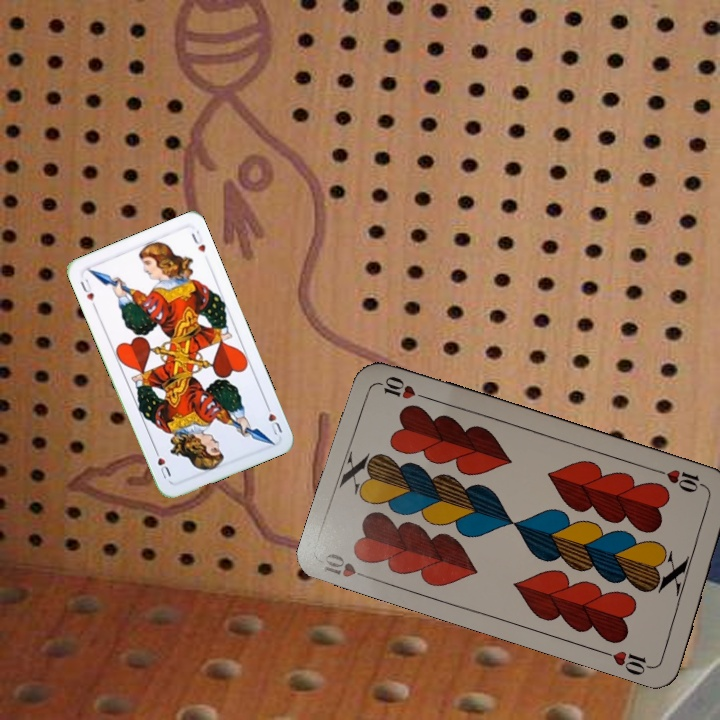H10: (319, 549, 376, 583), (653, 465, 711, 495)
HU: (261, 399, 285, 439), (76, 274, 99, 311)
